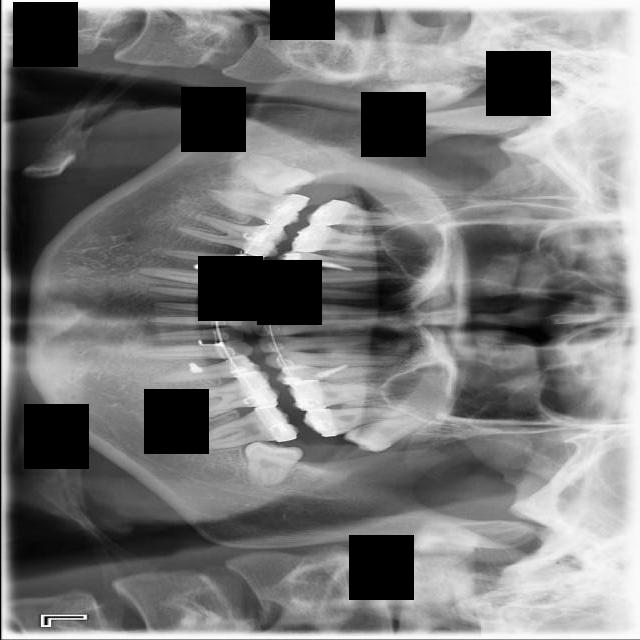52: (251, 396, 302, 450), (286, 212, 336, 264), (242, 221, 289, 259), (285, 377, 331, 414), (221, 349, 263, 388), (260, 195, 310, 226), (234, 373, 278, 408), (304, 198, 355, 227), (230, 251, 263, 277)
73: (22, 624, 28, 632)
BioHorizons Implant: (301, 401, 418, 439)
BioLife Implant: (341, 407, 439, 460)
Biomet 3i Implant: (243, 441, 304, 487)
Blue Sky Bio Implant: (194, 401, 301, 453)
Caries: (305, 199, 411, 227)
Implant: (202, 186, 310, 228)
Keystone Dental Implant: (229, 143, 317, 210)
